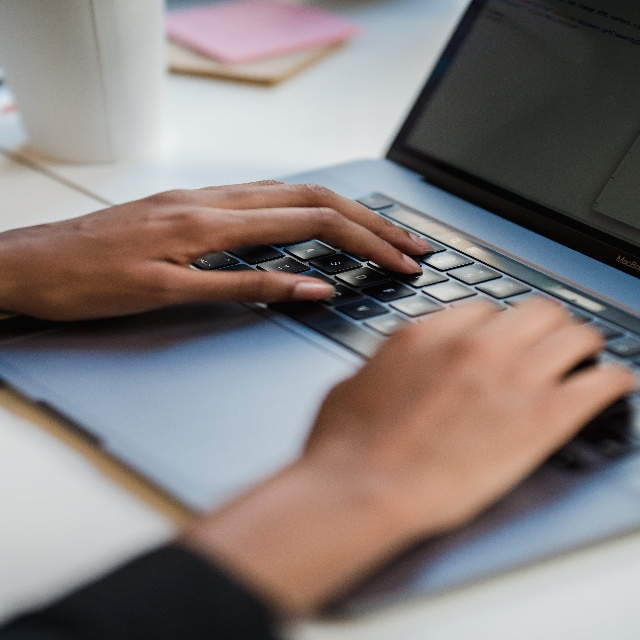Sin_guantes: (306, 296, 638, 543), (0, 178, 435, 322)
